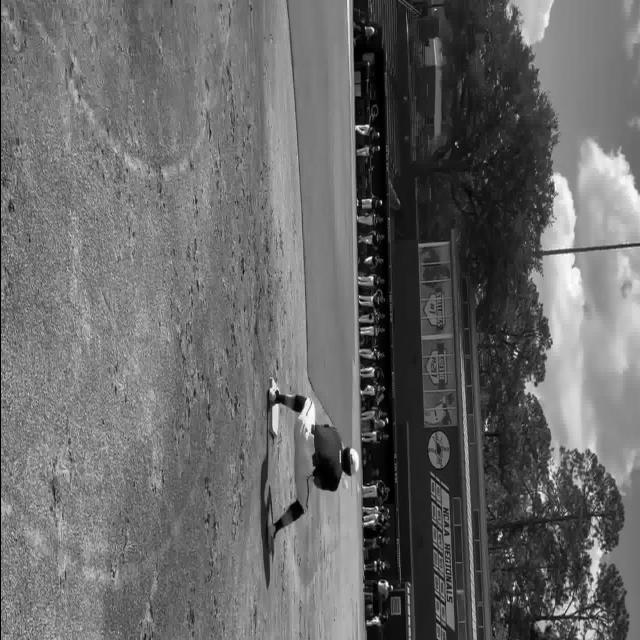base: (268, 405, 279, 440), (269, 378, 278, 389)
baseball: (342, 481, 347, 488)
shoe: (265, 522, 275, 553), (266, 387, 276, 409)
